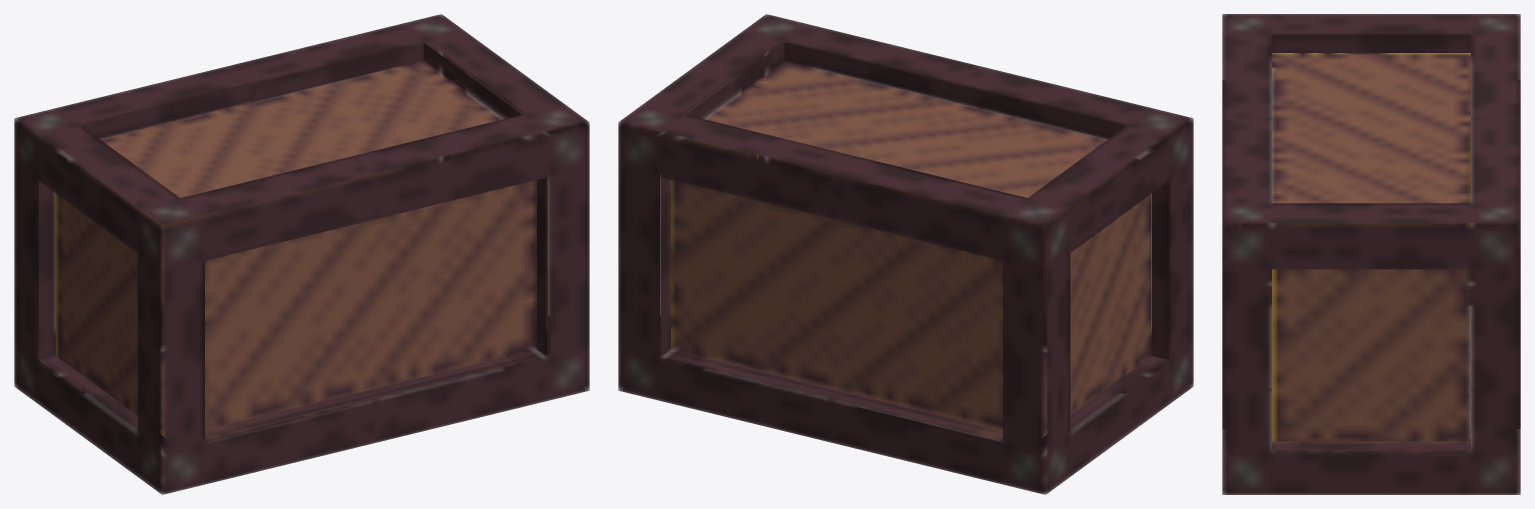
File: Crate_Long.glb
3 views of the same model, side by side, from view 1: azimuth 30°, elevation 25°; view 2: azimuth 150°, elevation 25°; view 3: azimuth 270°, elevation 25° (orthographic).
Parts seen in each view (by area): view 1: Crate_Long; view 2: Crate_Long; view 3: Crate_Long.
Part boxes in pixels (<box>): Crate_Long: <box>14,14,589,494</box>; Crate_Long: <box>618,14,1193,494</box>; Crate_Long: <box>1222,14,1520,494</box>.
Bounding box in the file's own units: 2.5 × 1.5 × 1.5.
Materials: 1 (1 with a texture image).
